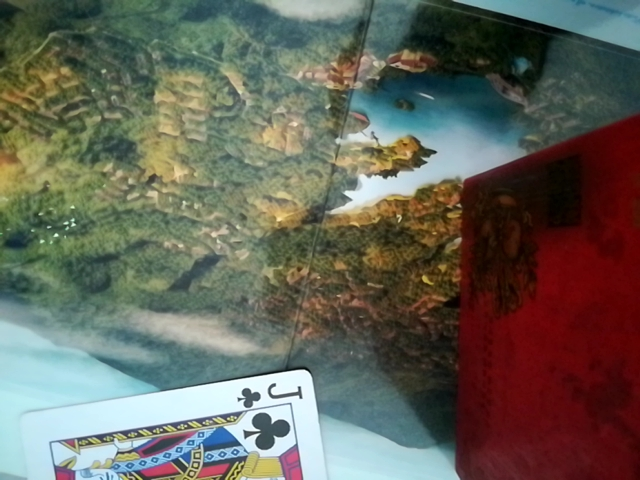mh j: (1, 367, 336, 477)
